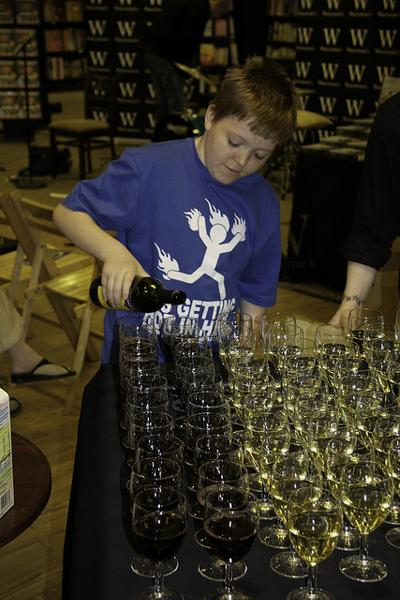person: (52, 57, 298, 368)
